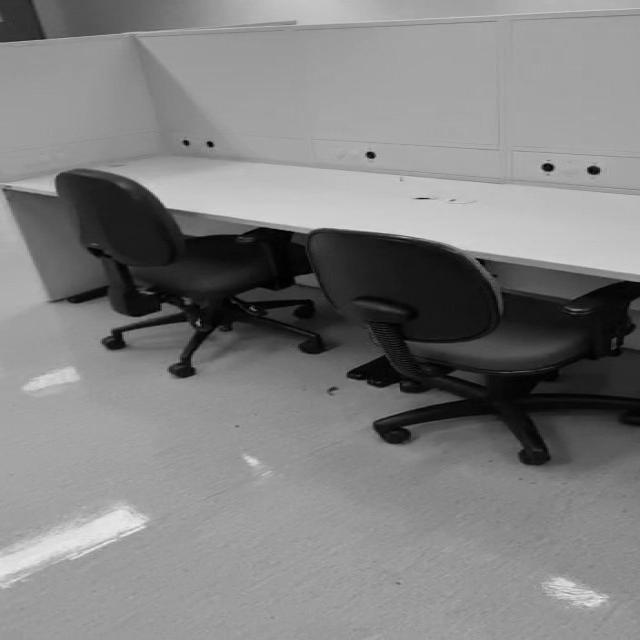cadeira-azul: (56, 168, 327, 377)
